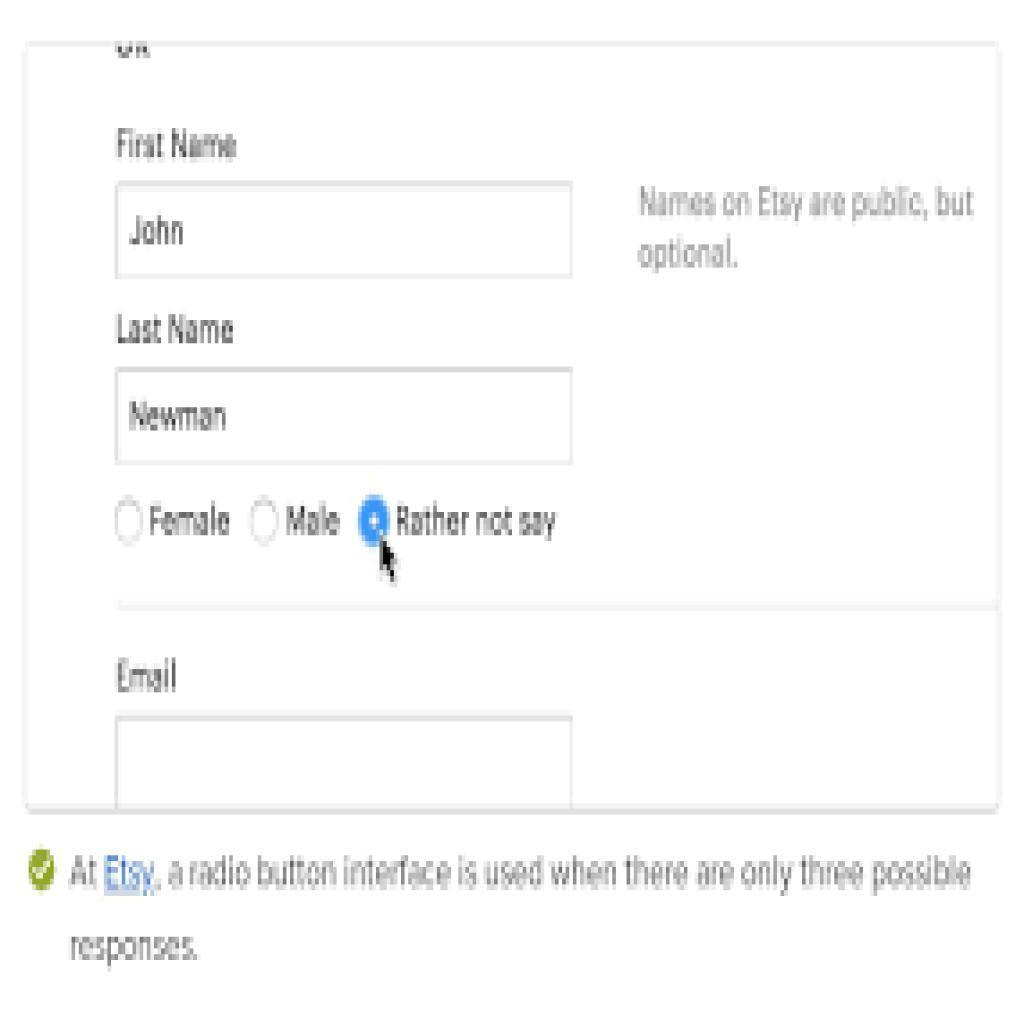input: (115, 718, 575, 813), (117, 182, 572, 278), (114, 371, 575, 463)
label: (397, 500, 560, 545), (114, 120, 246, 168), (111, 311, 241, 352), (151, 498, 233, 542), (112, 657, 182, 702), (287, 504, 347, 540)
radio: (354, 494, 395, 551), (112, 495, 146, 549), (248, 494, 279, 550)
